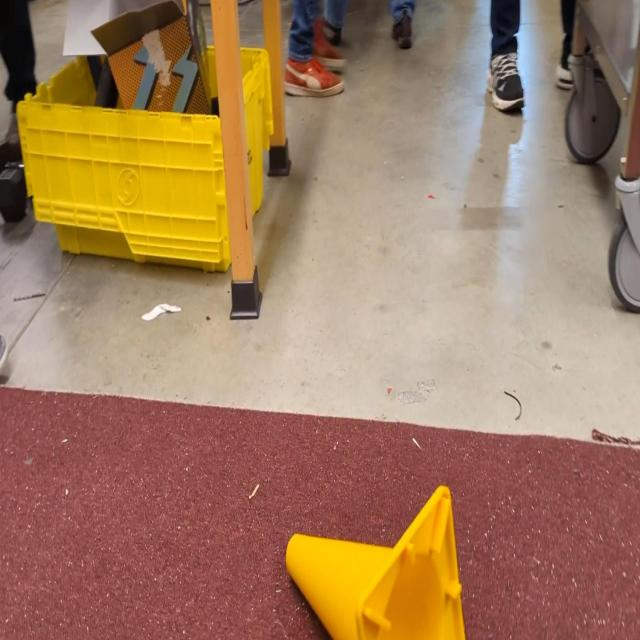frc_cone: (286, 485, 464, 639)
